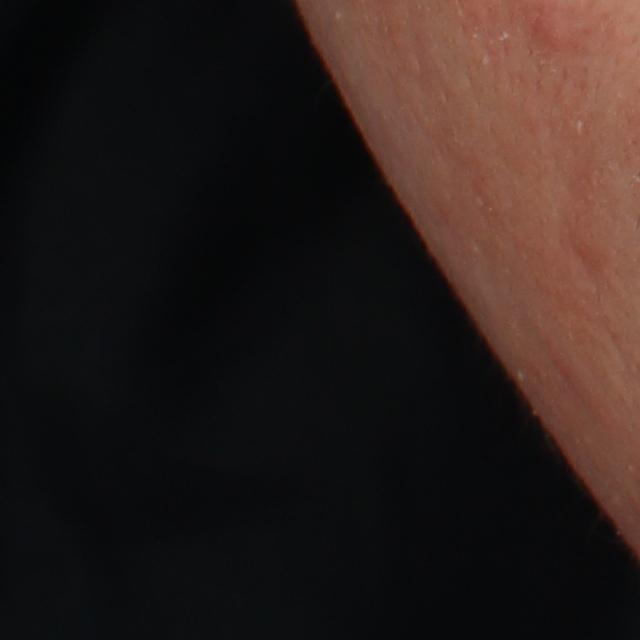papule: (525, 13, 584, 63)
